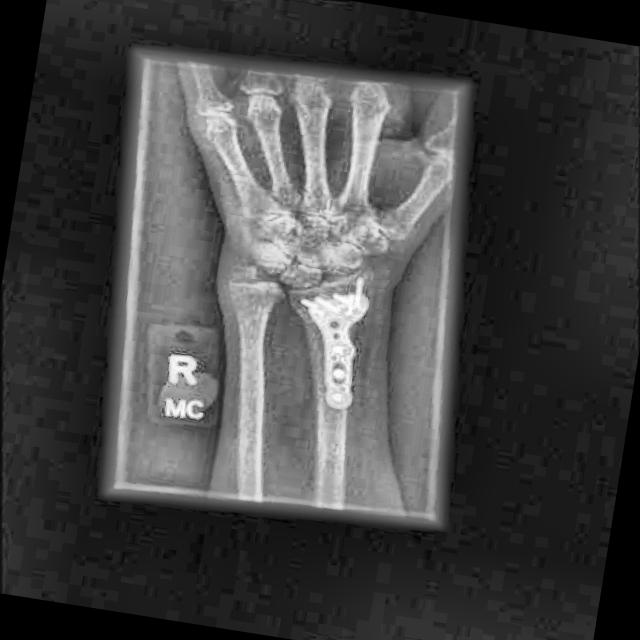fingers positive: (204, 257, 324, 303), (244, 199, 312, 245)
